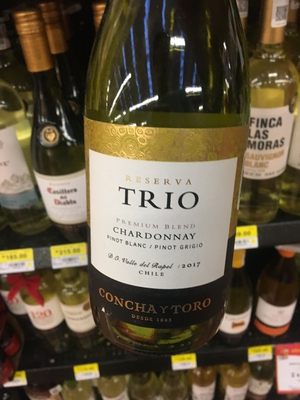trio chardonnay: (76, 16, 262, 354)
